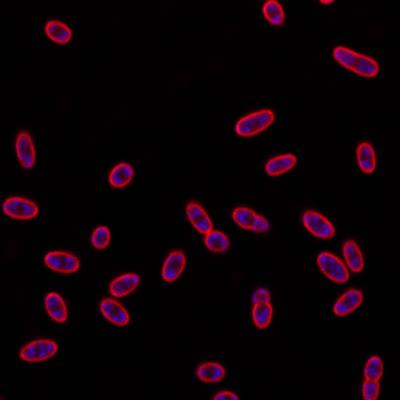MP265: (333, 47, 379, 78), (235, 109, 274, 137), (317, 252, 349, 284), (361, 356, 383, 400), (18, 339, 58, 363), (2, 196, 38, 221), (186, 201, 212, 234), (45, 251, 80, 275), (333, 289, 364, 316), (161, 251, 186, 284), (100, 299, 129, 326), (109, 273, 139, 297), (265, 154, 297, 176), (343, 239, 363, 274), (45, 293, 68, 323), (43, 21, 72, 43), (196, 362, 226, 383), (109, 163, 134, 188), (357, 142, 376, 174), (90, 226, 111, 250)
Oblique: (233, 207, 270, 233), (303, 209, 335, 239), (252, 287, 272, 330), (14, 131, 36, 170), (203, 230, 230, 253), (262, 1, 285, 26)
